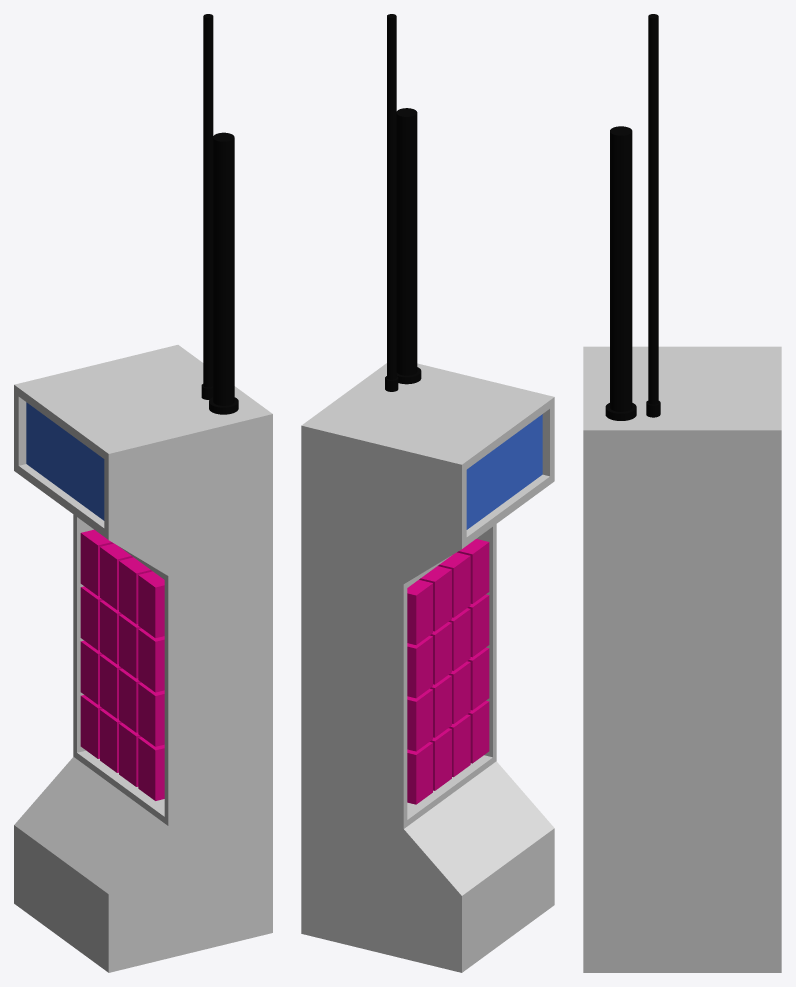
Rendered from TalkieWalkie.fbx.
3 renders of one model, left to right at view 1: azimuth 30°, elevation 25°; view 2: azimuth 150°, elevation 25°; view 3: azimuth 270°, elevation 25°, orthographic. The views are drawn at different scales.
Visible parts, largest first — view 1: Talkie-Walkie; view 2: Talkie-Walkie; view 3: Talkie-Walkie.
Boxes of the visible parts, <box> form: Talkie-Walkie: <box>14,14,272,972</box>; Talkie-Walkie: <box>301,14,554,972</box>; Talkie-Walkie: <box>583,14,781,972</box>.
Bounding box in the file's own units: 175 × 916 × 175.
